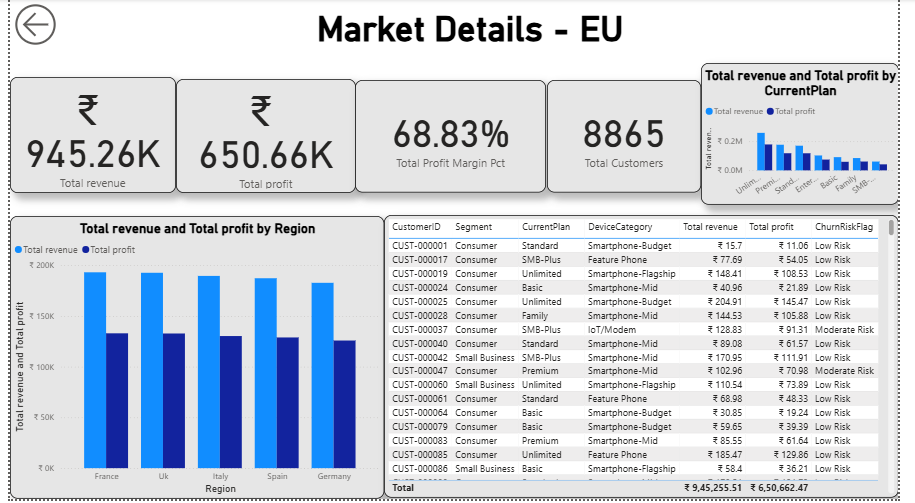

The page's visual inventory and layout, read from the dashboard file:
{"tool":"powerbi","page":{"name":"Market Details","canvas":[1280,720],"ordinal":9},"visuals":[{"type":"actionButton","box":[0,0,100.1,73.4],"z":9000},{"type":"card","fields":{"Values":["Measure.Total revenue"]},"box":[0,111.8,238.6,166.9],"z":11000},{"type":"card","fields":{"Values":["Measure.Total profit"]},"box":[238.6,115.1,258.7,163.5],"z":12000},{"type":"card","fields":{"Values":["Measure.Total Profit Margin Pct"]},"box":[497.3,116.8,275.4,161.9],"z":13000},{"type":"card","fields":{"Values":["Measure.Total Customers"]},"box":[772.7,116.8,222,161.9],"z":14000},{"type":"clusteredColumnChart","fields":{"Category":["Telecom_RegionalPeople.Region"],"Y":["Measure.Total revenue","Measure.Total profit"]},"box":[0,313,538.6,407.4],"z":15000},{"type":"clusteredColumnChart","fields":{"Category":["Telecom_Customers.CurrentPlan"],"Y":["Measure.Total revenue","Measure.Total profit"]},"box":[994.6,91.8,285.4,203.6],"z":16000},{"type":"card","fields":{"Values":["Measure.Market Details Title"]},"box":[139.9,0,1045.7,73.4],"z":17000},{"type":"tableEx","fields":{"Values":["Telecom_Customers.CustomerID","Telecom_Customers.Segment","Telecom_Customers.CurrentPlan","Telecom_Customers.DeviceCategory","Measure.Total revenue","Measure.Total profit","Telecom_Customers.ChurnRiskFlag"]},"box":[538.6,311.3,741.4,407.4],"z":18000}]}

Visuals, with their boxes in screenshot pixels (x1, y1, x2, y2), scaled from the page's 1280x720 canvas onto the 915x503 screenshot:
actionButton: <bbox>0, 0, 72, 51</bbox>
card - Measure.Total revenue: <bbox>0, 78, 171, 195</bbox>
card - Measure.Total profit: <bbox>171, 80, 355, 195</bbox>
card - Measure.Total Profit Margin Pct: <bbox>355, 82, 552, 195</bbox>
card - Measure.Total Customers: <bbox>552, 82, 711, 195</bbox>
clusteredColumnChart - Telecom_RegionalPeople.Region x Measure.Total revenue: <bbox>0, 219, 385, 502</bbox>
clusteredColumnChart - Telecom_Customers.CurrentPlan x Measure.Total revenue: <bbox>711, 64, 914, 206</bbox>
card - Measure.Market Details Title: <bbox>100, 0, 848, 51</bbox>
tableEx - Telecom_Customers.CustomerID x Telecom_Customers.Segment: <bbox>385, 217, 914, 502</bbox>
